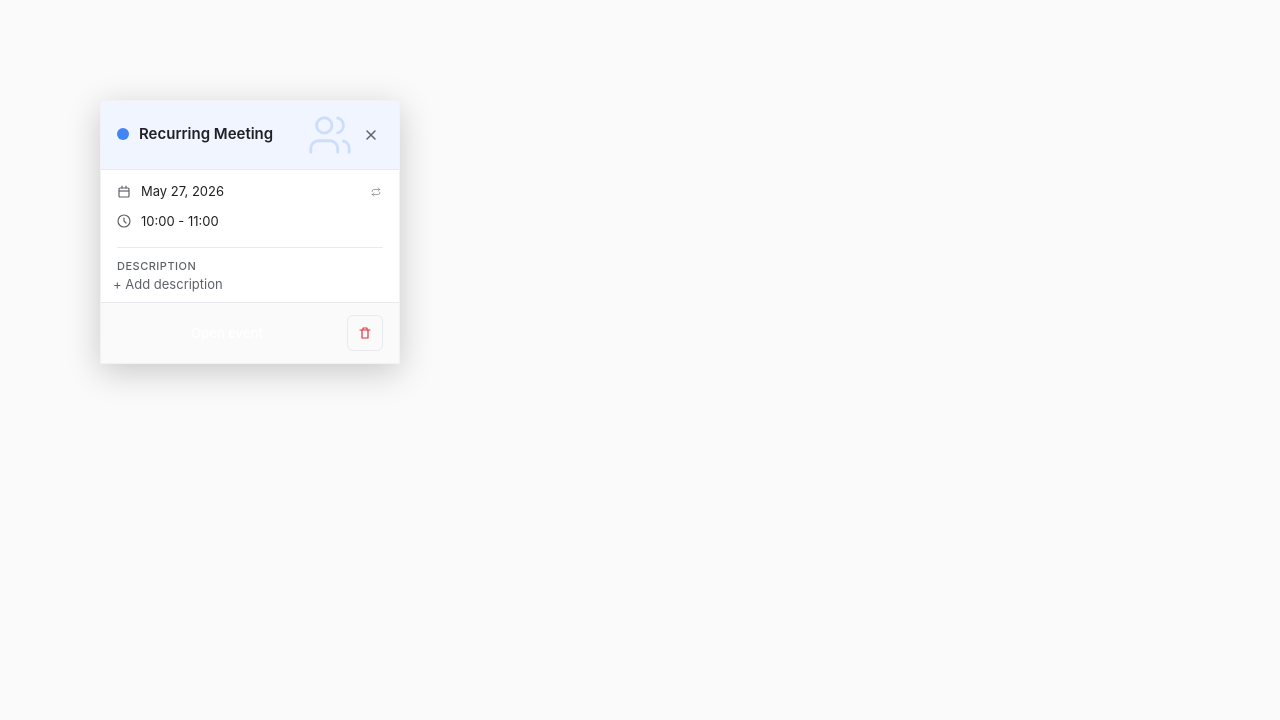
Test: Bug 11: Modal dialogs portaled as siblings › DeleteDialog should render outside the popup motion.div
Open delete dialog for recurring event
Click the button named "Delete" at (365, 333), box [347,315,383,351]
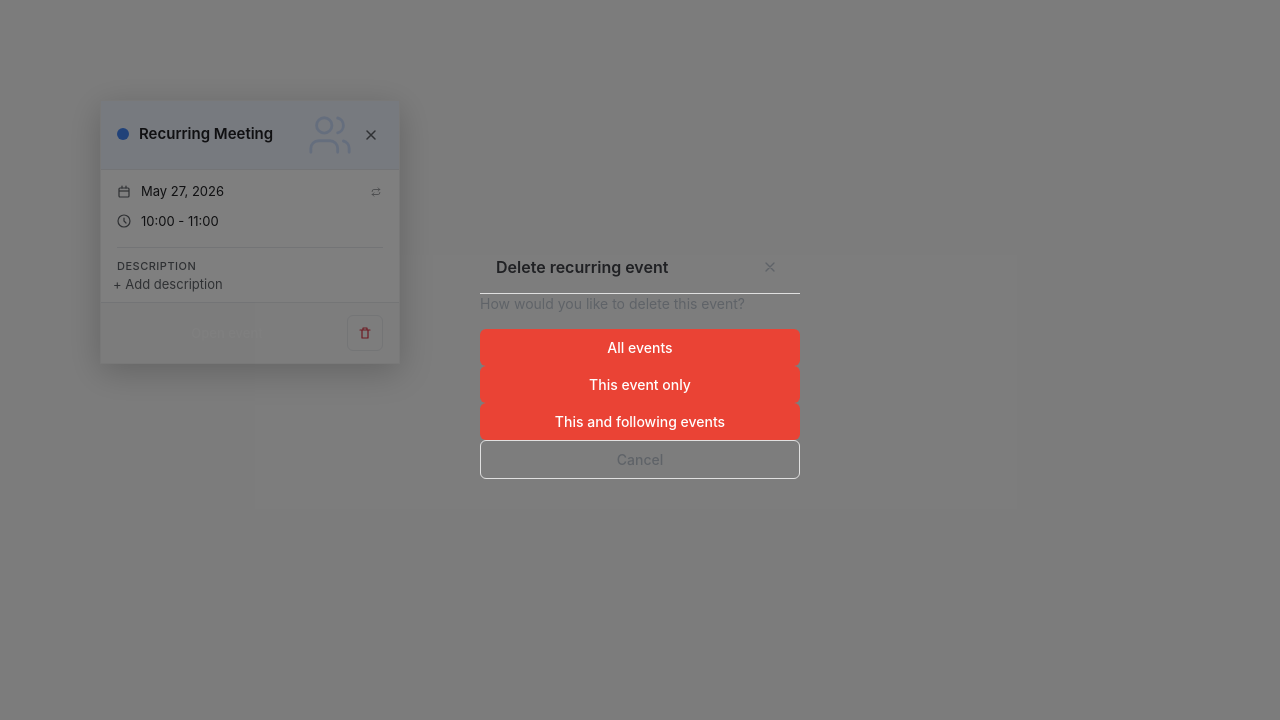
Expected: the element that starts with "Recurring Meeting" is shown, [100,100,400,364]
Expected: the heading "Delete recurring event" is shown, [496,255,668,279]
Expected: the text "Delete recurring event" is shown, [496,257,668,277]
